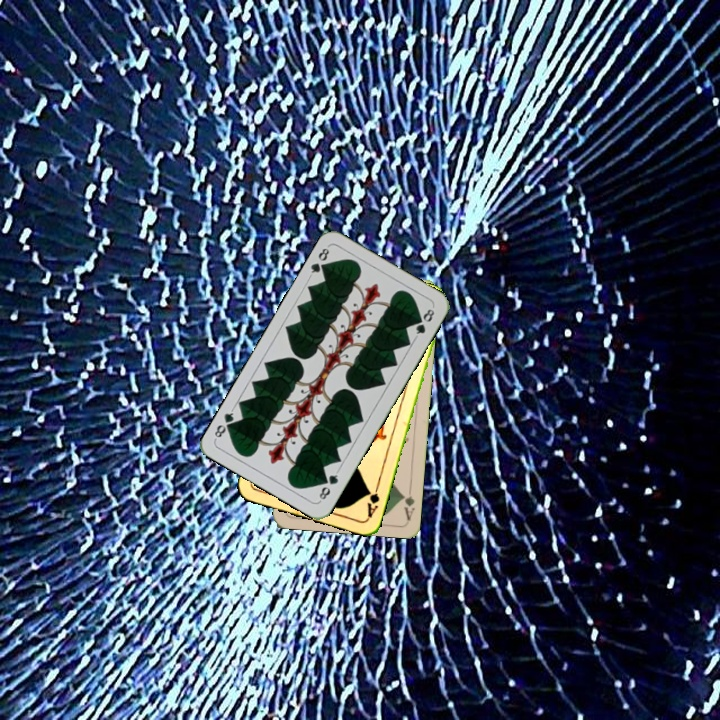G8: (315, 467, 341, 504), (305, 244, 332, 279)
GA: (398, 482, 417, 522), (363, 480, 382, 520)
